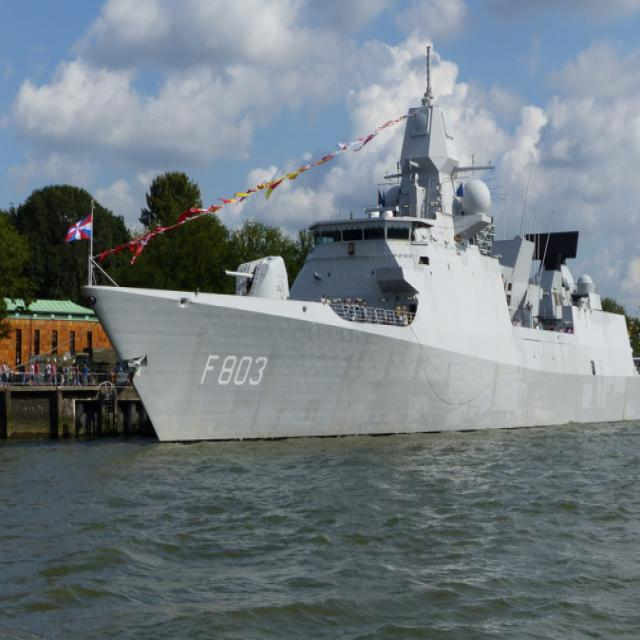Fragata: (76, 33, 640, 454)
